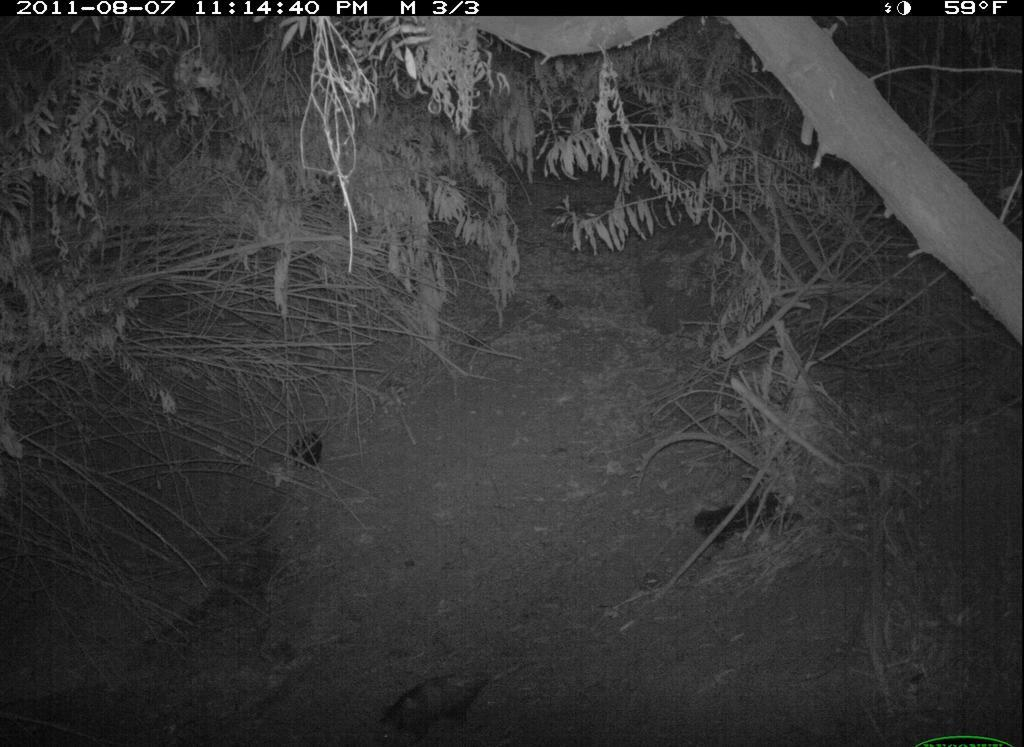opossum: (365, 655, 518, 747)
